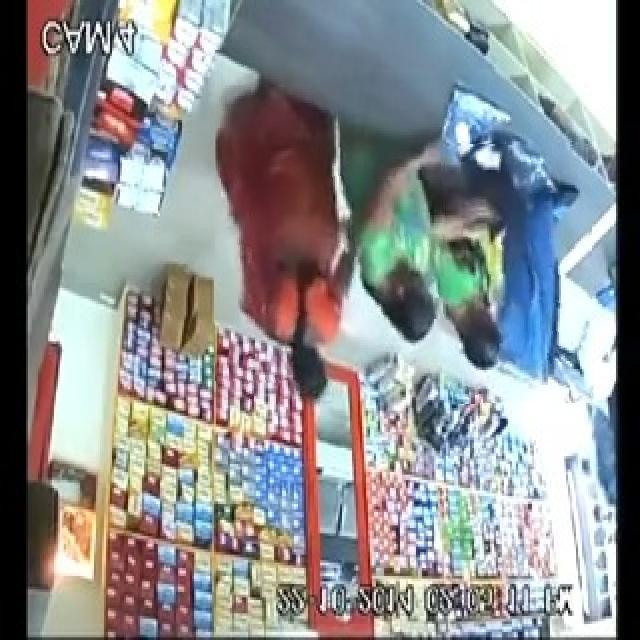normal: (215, 50, 364, 415), (345, 69, 509, 350), (445, 143, 592, 403)
